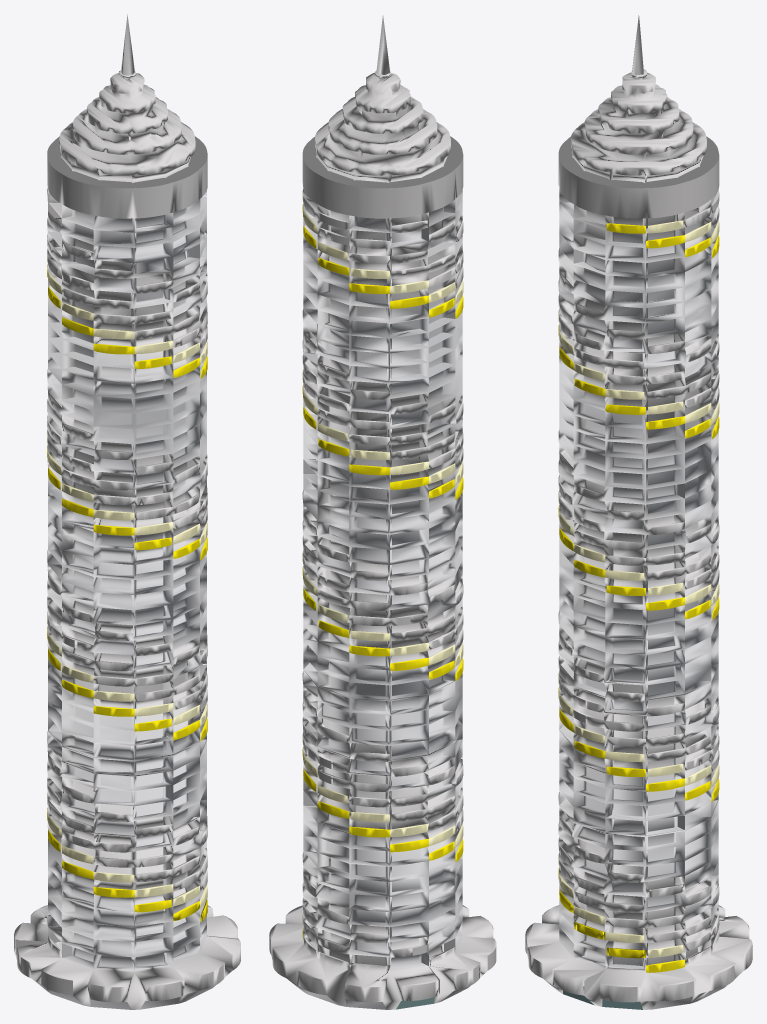
The model's file is com-3.glb.
3 views of the same model, side by side, from view 1: azimuth 30°, elevation 25°; view 2: azimuth 150°, elevation 25°; view 3: azimuth 270°, elevation 25° (orthographic).
Parts seen in each view (by area): view 1: part_03, part_00, part_01, part_05, part_06; view 2: part_03, part_05, part_00, part_01, part_06; view 3: part_03, part_01, part_00, part_05, part_06.
Boxes of the visible parts, x1,y1,x2,y2 form: part_03: (14, 14, 240, 1009); part_00: (47, 249, 207, 907); part_01: (47, 264, 207, 921); part_05: (16, 70, 238, 995); part_06: (47, 136, 207, 188); part_03: (269, 15, 496, 1009); part_05: (302, 70, 496, 993); part_00: (302, 188, 463, 925); part_01: (302, 204, 463, 940); part_06: (302, 136, 463, 188); part_03: (525, 15, 752, 1009); part_01: (558, 223, 719, 972); part_00: (558, 220, 719, 957); part_05: (528, 69, 719, 994); part_06: (558, 136, 719, 188).
Size of the model in its own units: 224 by 1038 by 224.
